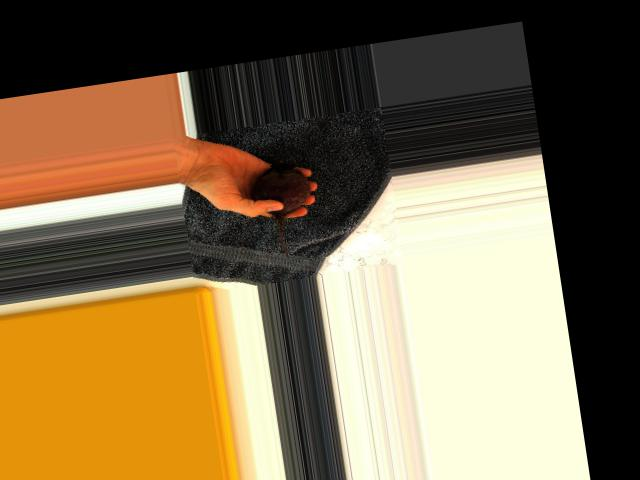beet: (249, 158, 321, 261)
